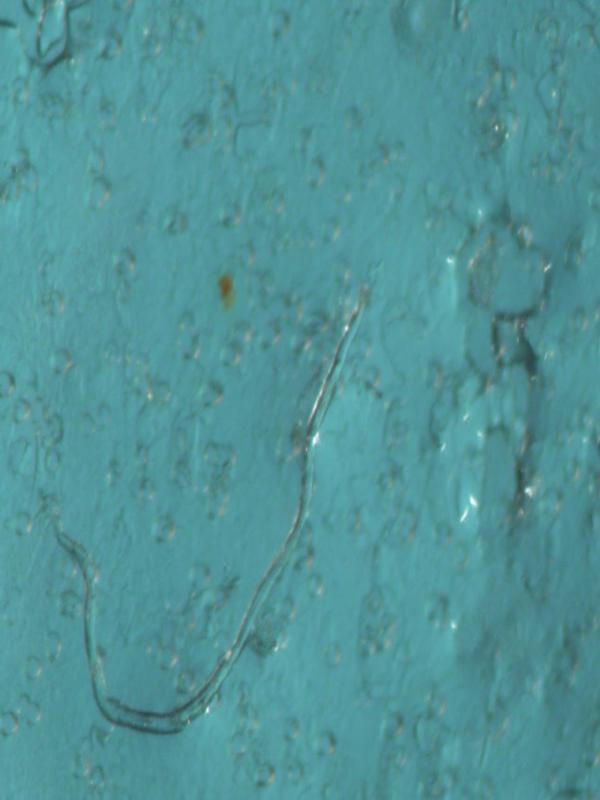microplastic: (1, 1, 598, 796), (32, 279, 372, 738)
